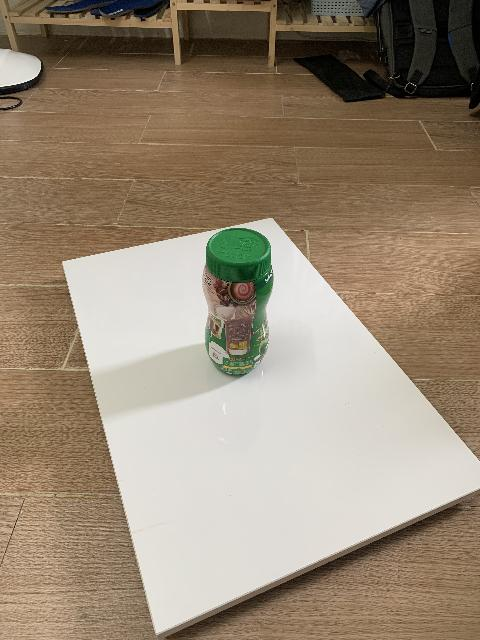milo: (202, 227, 274, 381)
